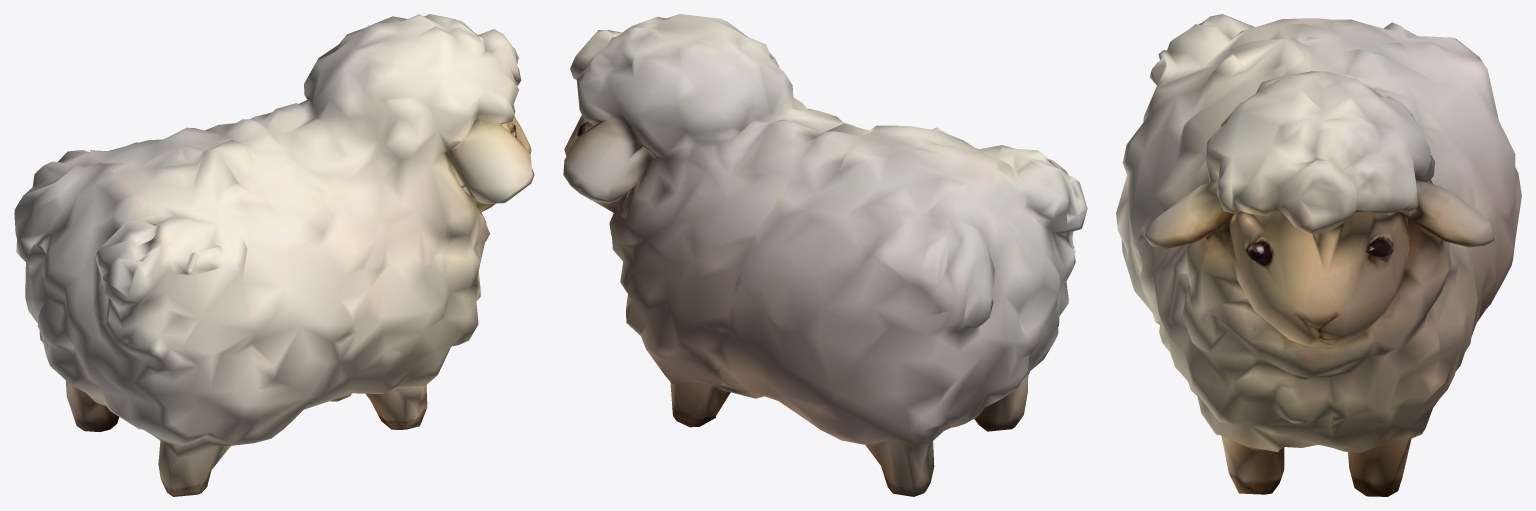
Rendered from sheep.glb.
The picture shows the model from 3 angles, left to right: view 1: azimuth 30°, elevation 25°; view 2: azimuth 150°, elevation 25°; view 3: azimuth 270°, elevation 25°; orthographic projection. The views are drawn at different scales.
Parts seen in each view (by area): view 1: tripo_node_347858f8-4240-4589-bfc2-647853b04baf; view 2: tripo_node_347858f8-4240-4589-bfc2-647853b04baf; view 3: tripo_node_347858f8-4240-4589-bfc2-647853b04baf.
Part boxes in pixels (<box>): tripo_node_347858f8-4240-4589-bfc2-647853b04baf: <box>14,14,534,496</box>; tripo_node_347858f8-4240-4589-bfc2-647853b04baf: <box>563,14,1087,496</box>; tripo_node_347858f8-4240-4589-bfc2-647853b04baf: <box>1116,14,1521,496</box>.
Size of the model in its own units: 0.9956 by 0.7373 by 0.6455.
1 material, 1 textured.
